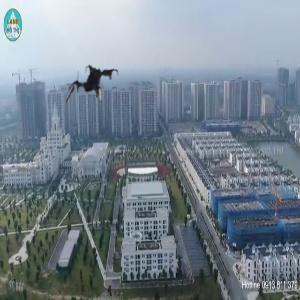drone: (67, 56, 122, 111)
